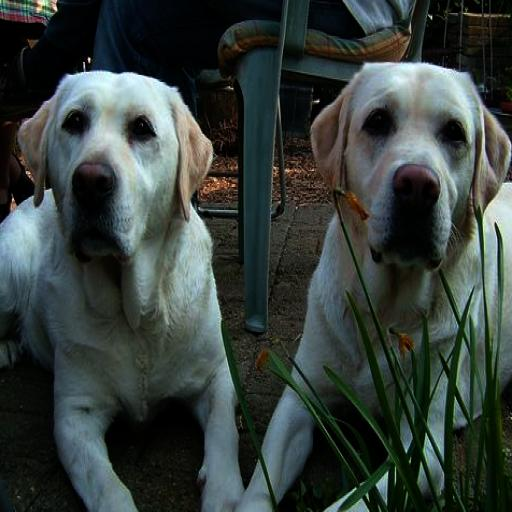dog_face: (317, 59, 494, 262), (24, 68, 207, 250)
